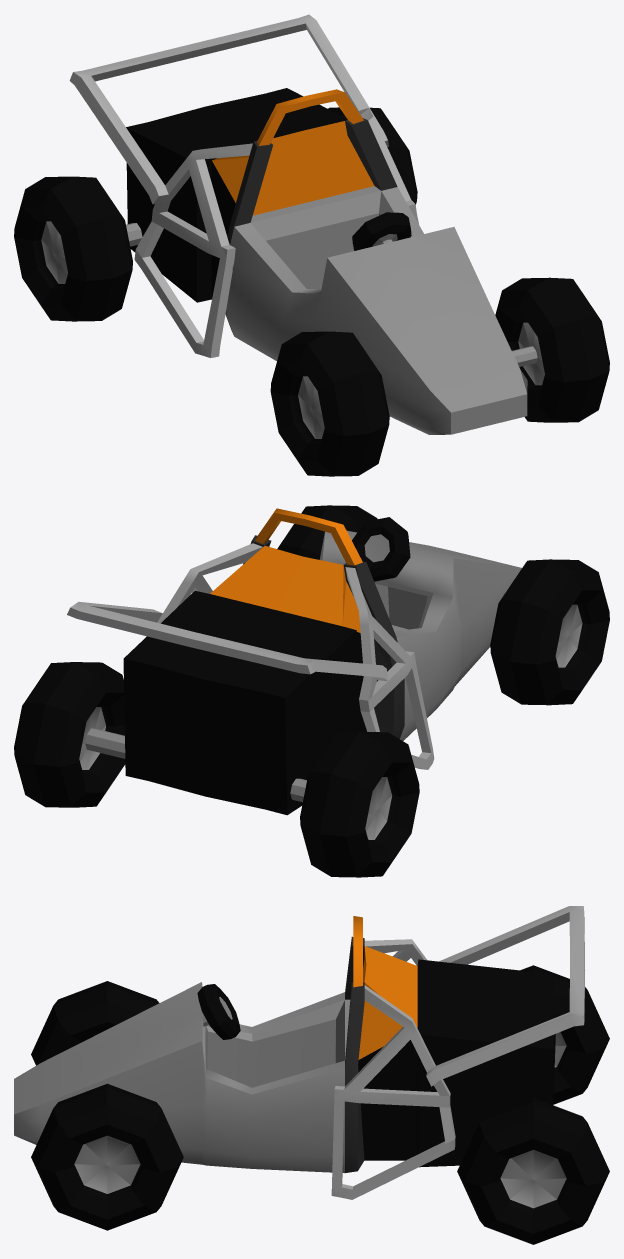
File: model_formulaCar_unwrapped.fbx
The picture shows the model from 3 angles, top to bottom: view 1: azimuth 30°, elevation 25°; view 2: azimuth 150°, elevation 25°; view 3: azimuth 270°, elevation 25°; orthographic projection. The views are drawn at different scales.
Parts seen in each view (by area): view 1: SM_CartBody, SM_TireFR, SM_TireBR, SM_TireFL, SM_Wheel, SM_TireBL; view 2: SM_CartBody, SM_TireFR, SM_TireBR, SM_TireBL, SM_Wheel, SM_TireFL, SM_BarBackL; view 3: SM_CartBody, SM_TireBL, SM_TireFL, SM_TireFR, SM_TireBR, SM_Wheel.
Boxes of the visible parts, x1,y1,x2,y2 form: SM_CartBody: [69, 14, 527, 434]; SM_TireFR: [270, 331, 389, 476]; SM_TireBR: [14, 176, 132, 321]; SM_TireFL: [495, 277, 609, 422]; SM_Wheel: [352, 212, 411, 250]; SM_TireBL: [328, 107, 417, 204]; SM_CartBody: [67, 508, 521, 815]; SM_TireFR: [490, 559, 609, 705]; SM_TireBR: [300, 731, 419, 877]; SM_TireBL: [14, 662, 125, 807]; SM_Wheel: [352, 517, 410, 581]; SM_TireFL: [277, 505, 377, 559]; SM_BarBackL: [85, 728, 125, 758]; SM_CartBody: [14, 906, 585, 1199]; SM_TireBL: [457, 1098, 609, 1244]; SM_TireFL: [31, 1083, 183, 1230]; SM_TireFR: [31, 981, 159, 1065]; SM_TireBR: [520, 965, 609, 1104]; SM_Wheel: [197, 984, 240, 1039].
Size of the model in its own units: 6.33 by 4.45 by 9.81.
